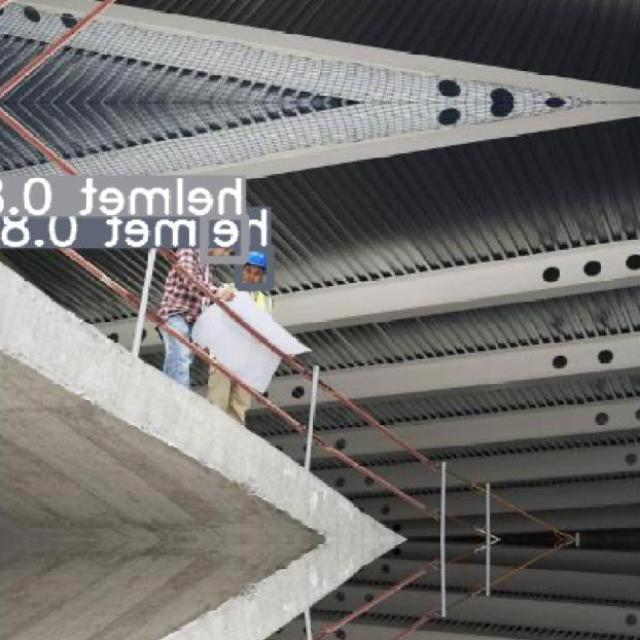helmet: (246, 251, 267, 271)
